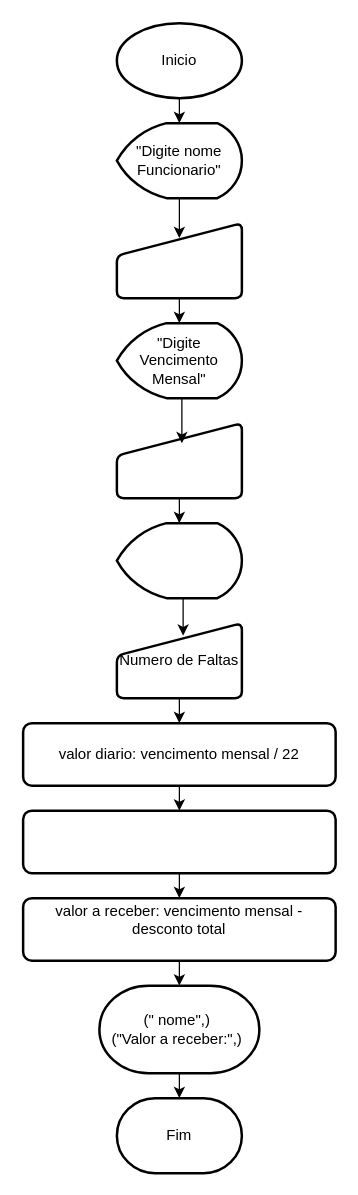
Some shapes in this 358 by 1195 pixel diagram are drawn without their labels. The centre of each missing label's shape, as x and y in pixels:
"Digite numero de Faltas": [178,560]
desconto total: valor diario * numero de faltas: [178,841]
nome:: [178,260]
Vencimento Mensal: [178,460]
